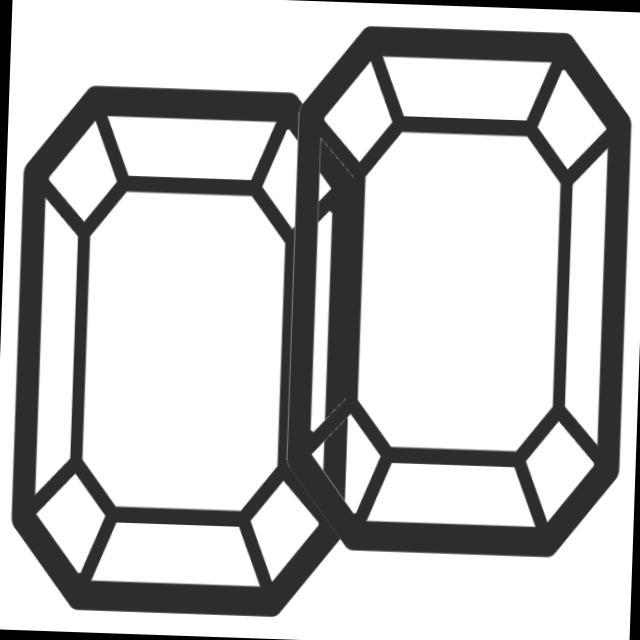emerald: (264, 18, 640, 567), (5, 74, 374, 624)
